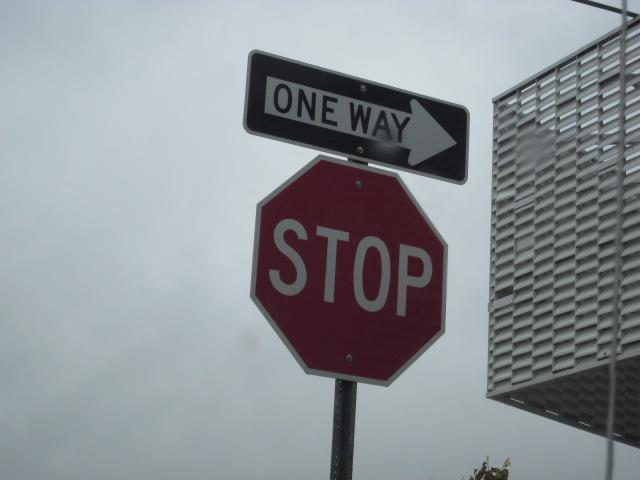regulatory: (235, 46, 476, 187)
stop: (254, 155, 454, 397)
